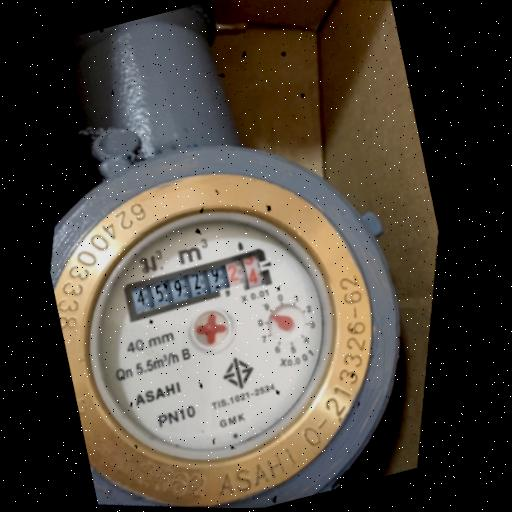2: (187, 271, 207, 297), (226, 262, 244, 287)
4: (242, 254, 263, 287), (130, 286, 151, 313)
5: (150, 281, 170, 308)
9: (169, 277, 189, 302), (208, 267, 227, 292)
border_water_meter_number: (121, 245, 276, 323)
